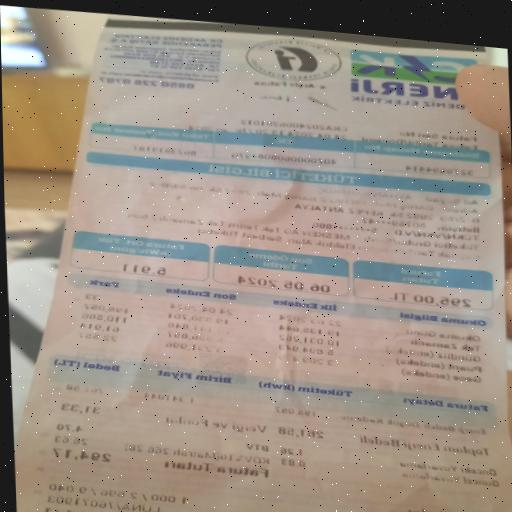electricity-bill: (14, 16, 512, 512)
